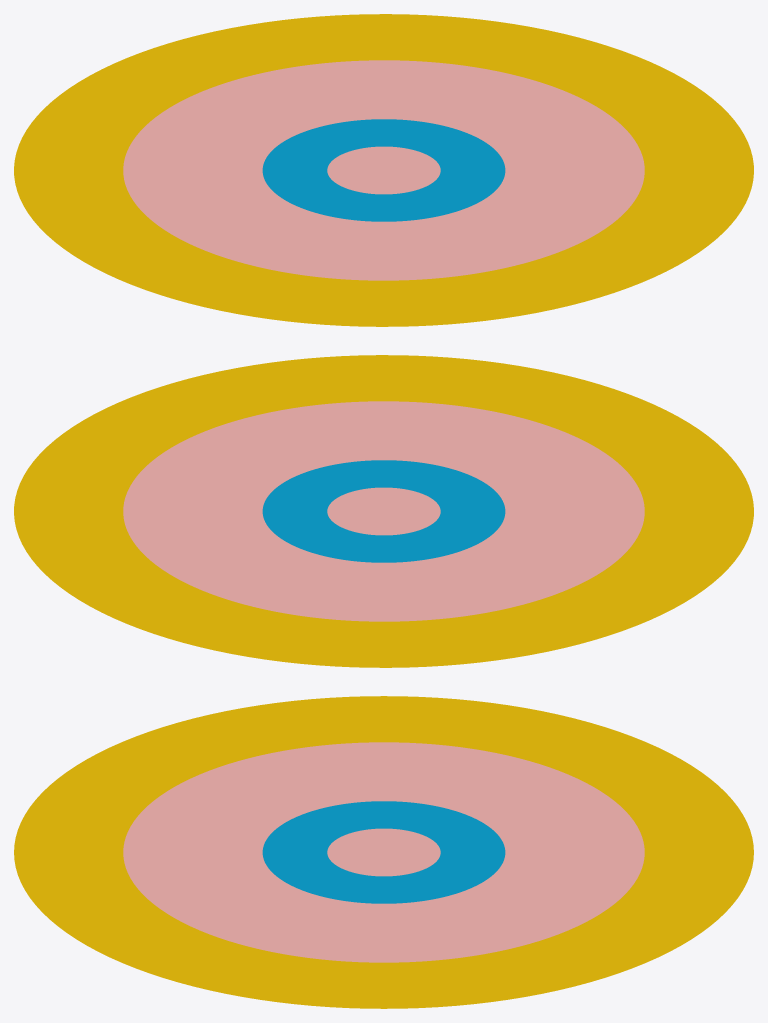
The model's file is Carpet.fbx.
The picture shows the model from 3 angles, top to bottom: view 1: azimuth 30°, elevation 25°; view 2: azimuth 150°, elevation 25°; view 3: azimuth 270°, elevation 25°; orthographic projection.
Visible parts, largest first — view 1: Carpet; view 2: Carpet; view 3: Carpet.
Boxes of the visible parts, x1,y1,x2,y2 form: Carpet: (14, 14, 753, 326); Carpet: (14, 355, 753, 667); Carpet: (14, 696, 753, 1008).
Size of the model in its own units: 200 by 8.68e-12 by 200.
